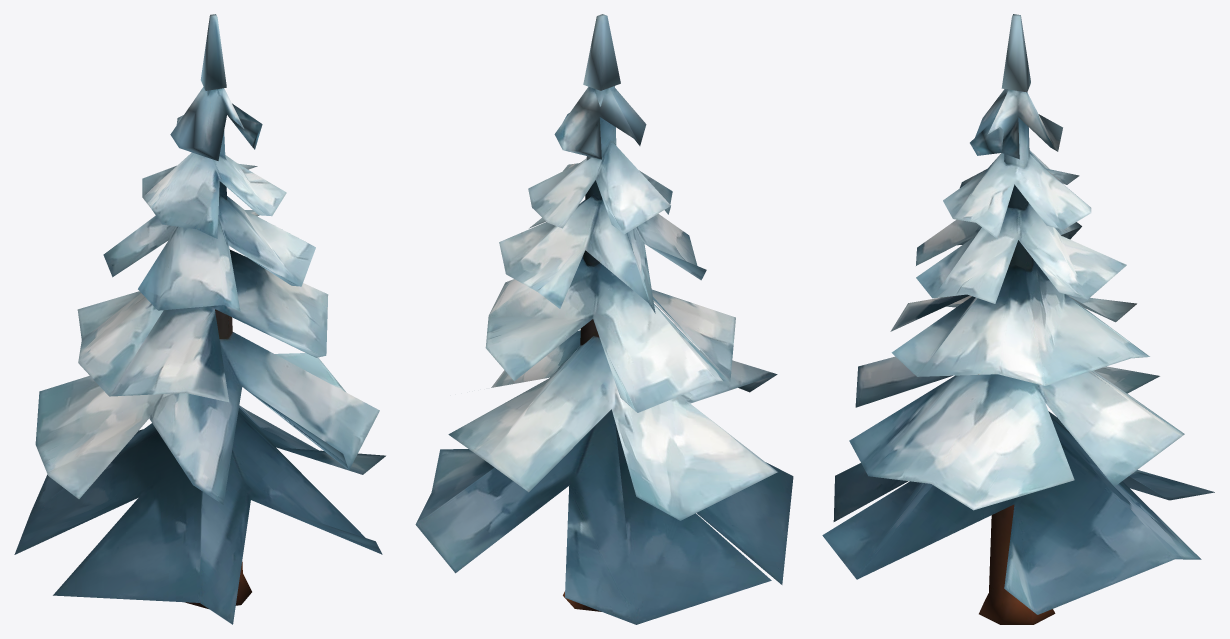
File: snow-fir.glb
The picture shows the model from 3 angles, left to right: view 1: azimuth 30°, elevation 25°; view 2: azimuth 150°, elevation 25°; view 3: azimuth 270°, elevation 25°; orthographic projection. The views are drawn at different scales.
Parts seen in each view (by area): view 1: Snow Fir; view 2: Snow Fir; view 3: Snow Fir.
Part boxes in pixels (box(x1,y1,x2,y2)): Snow Fir: box(14, 14, 385, 624); Snow Fir: box(415, 14, 793, 624); Snow Fir: box(822, 14, 1214, 624).
Bounding box in the file's own units: 0.6348 × 0.998 × 0.5996.
Materials: 1 (1 with a texture image).
